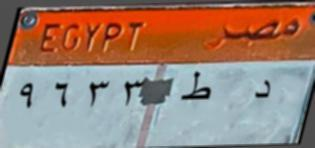3: (118, 74, 147, 110), (83, 80, 113, 108)
6: (51, 77, 74, 113)
9: (16, 77, 38, 114)
Taa: (179, 68, 222, 108)
daal: (251, 70, 277, 111)
